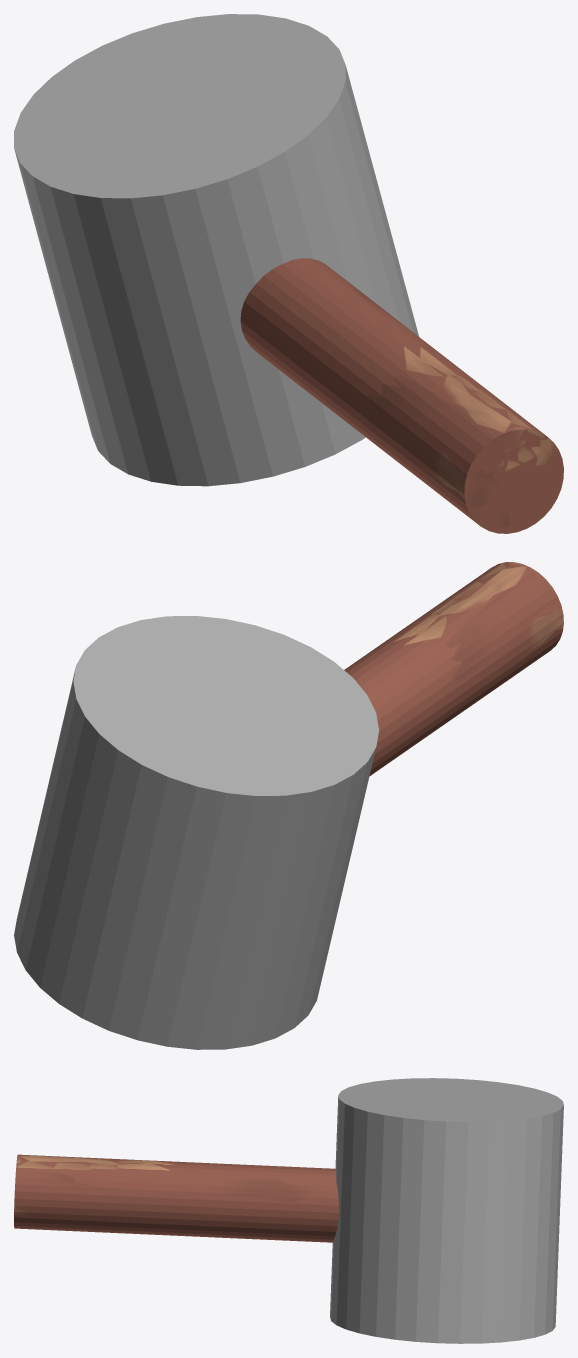
The model's file is Hammer_Simple.glb.
3 views of the same model, one above another, from view 1: azimuth 30°, elevation 25°; view 2: azimuth 150°, elevation 25°; view 3: azimuth 270°, elevation 25° (orthographic). The views are drawn at different scales.
Visible parts, largest first — view 1: hammer_main.001, hammer_handle.001; view 2: hammer_main.001, hammer_handle.001; view 3: hammer_main.001, hammer_handle.001.
Part boxes in pixels (bbox=[...]): hammer_main.001: bbox=[14, 14, 418, 486]; hammer_handle.001: bbox=[240, 258, 563, 533]; hammer_main.001: bbox=[14, 616, 379, 1049]; hammer_handle.001: bbox=[344, 562, 563, 776]; hammer_main.001: bbox=[330, 1078, 563, 1343]; hammer_handle.001: bbox=[14, 1154, 338, 1242].
Size of the model in its own units: 0.3216 by 0.3223 by 0.6463.
2 materials, 1 textured.
